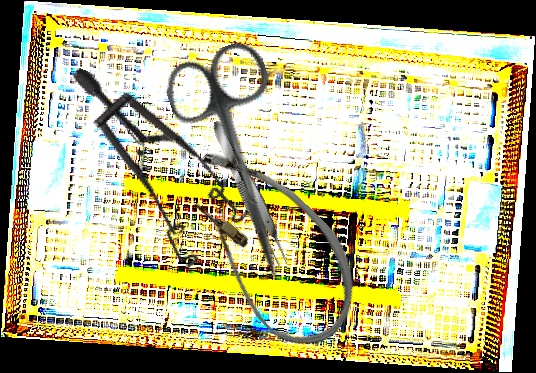Cannula: (148, 129, 386, 365)
Iris Scissors: (158, 36, 329, 294)
Speculum: (19, 65, 279, 284)
Tissue Forceps: (206, 116, 294, 270)
